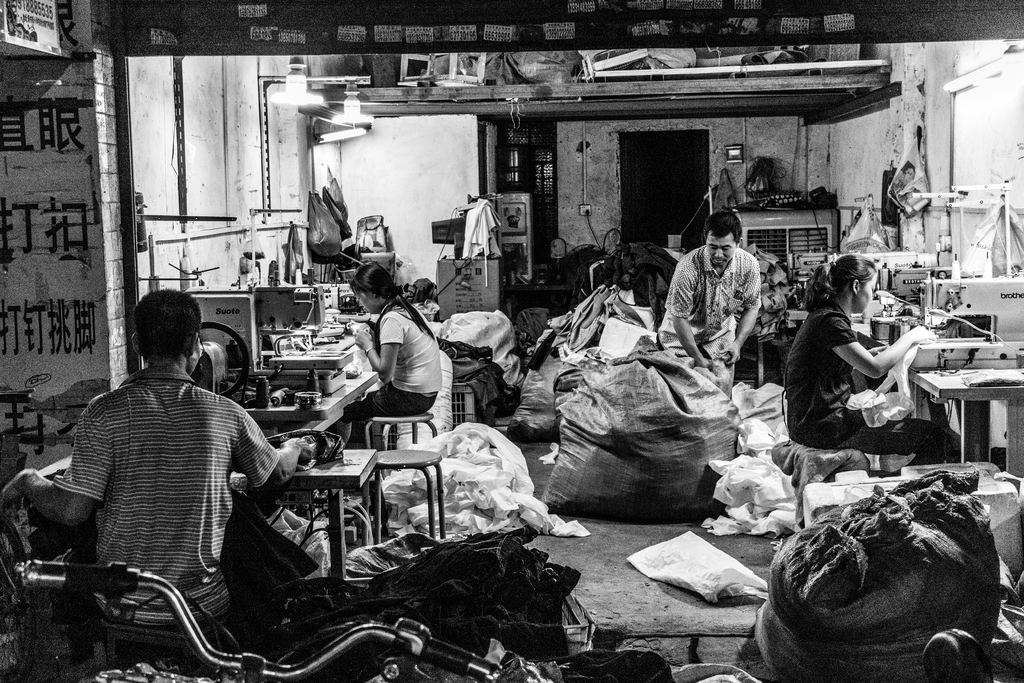Person: (0, 287, 314, 668), (657, 212, 764, 400)
